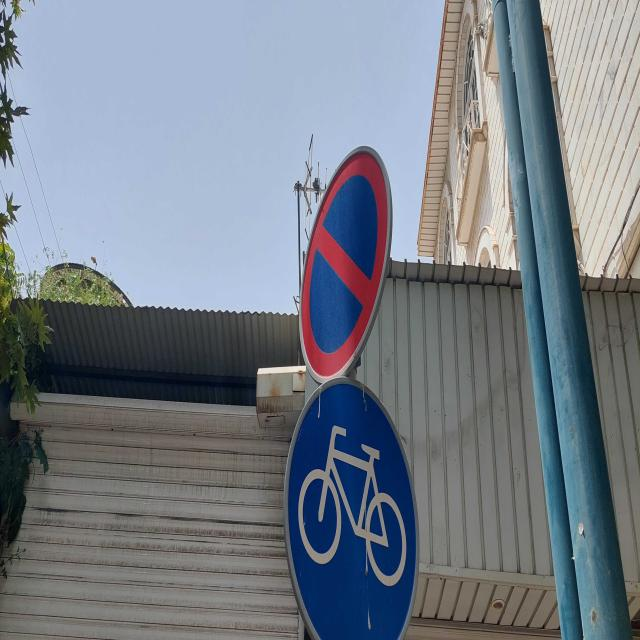forb_stopping: (295, 144, 393, 385)
